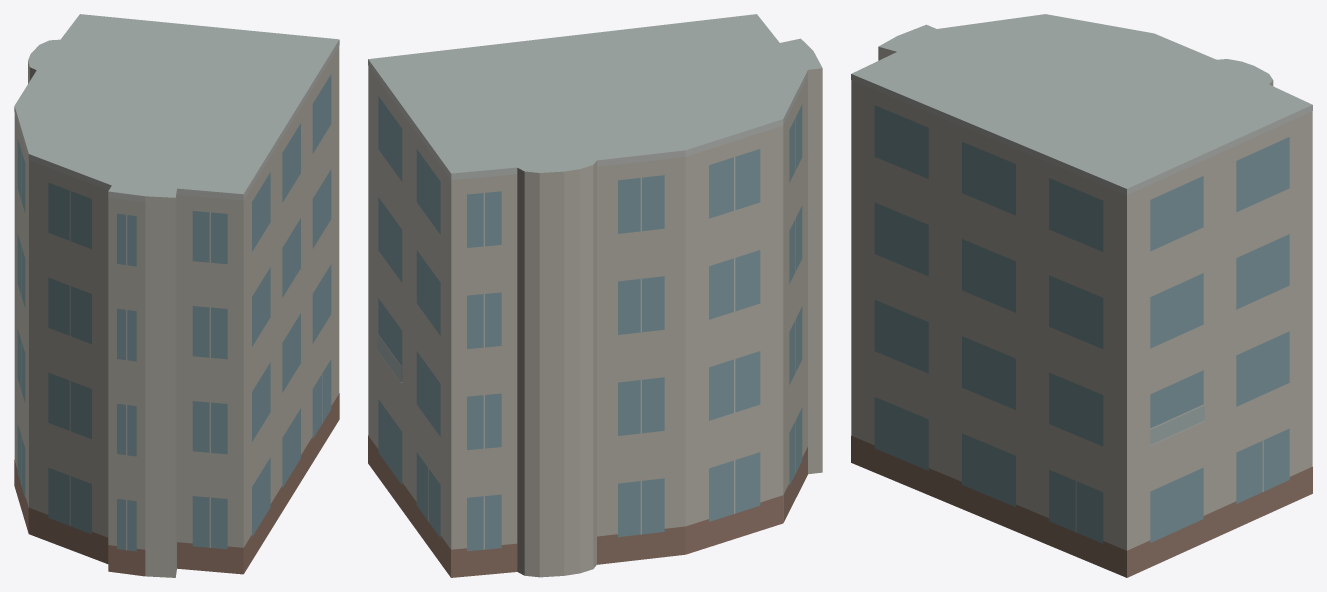
The model's file is survey-upis-32462116.glb.
3 renders of one model, left to right at view 1: azimuth 30°, elevation 25°; view 2: azimuth 150°, elevation 25°; view 3: azimuth 270°, elevation 25°, orthographic. The views are drawn at different scales.
Visible parts, largest first — view 1: survey-upis-32462116.tmp; view 2: survey-upis-32462116.tmp; view 3: survey-upis-32462116.tmp.
Boxes of the visible parts, x1,y1,x2,y2 form: survey-upis-32462116.tmp: (14,14,339,577); survey-upis-32462116.tmp: (368,14,822,577); survey-upis-32462116.tmp: (851,14,1312,577).
Size of the model in its own units: 14.48 by 15 by 16.14.
